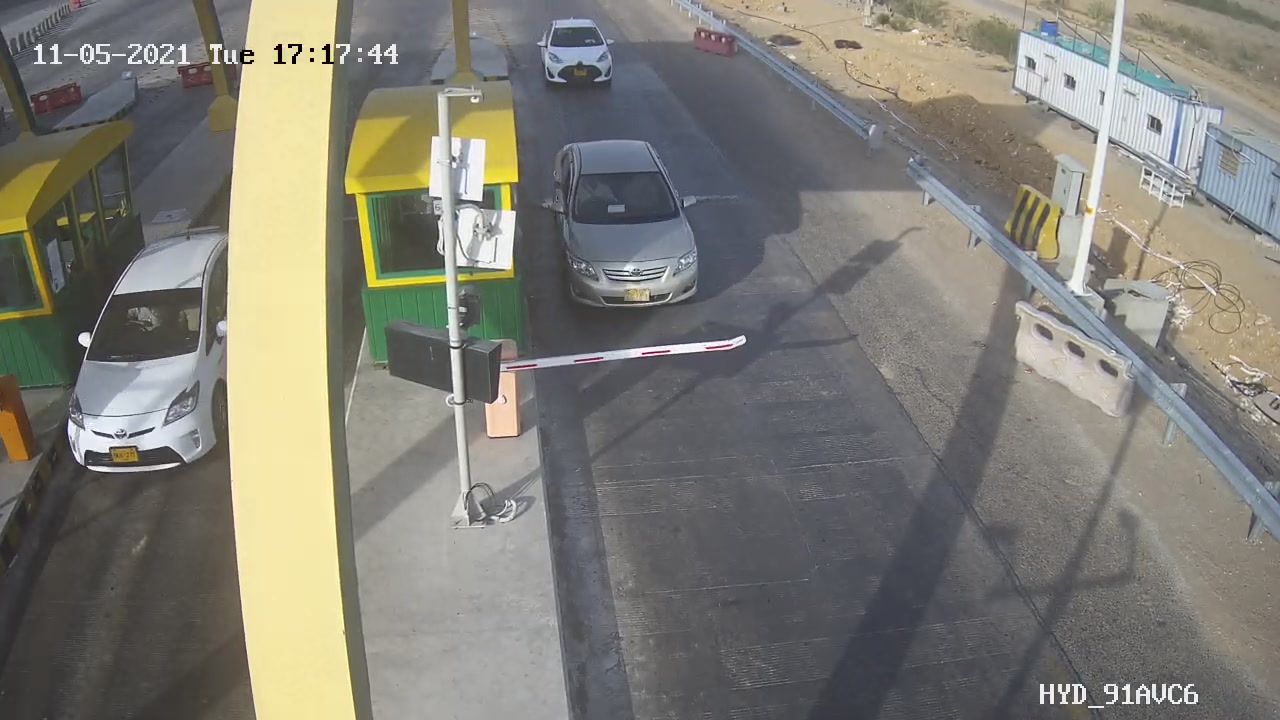F1: (533, 126, 718, 327), (527, 1, 626, 101)
